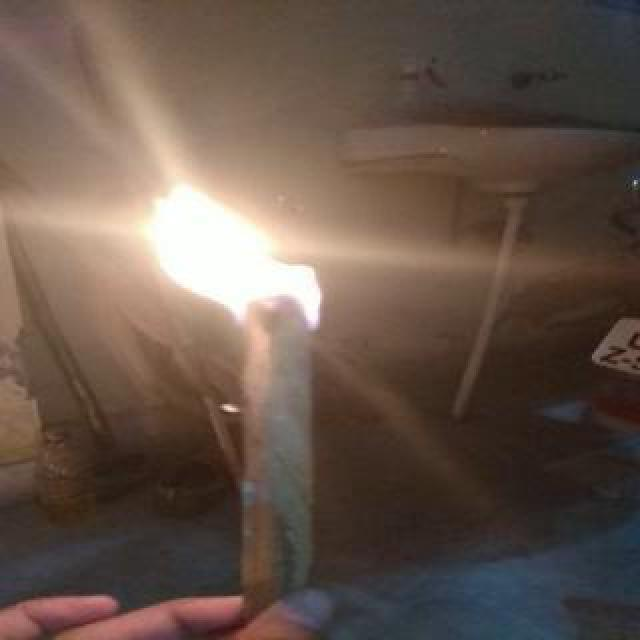Fire: (116, 156, 364, 324)
